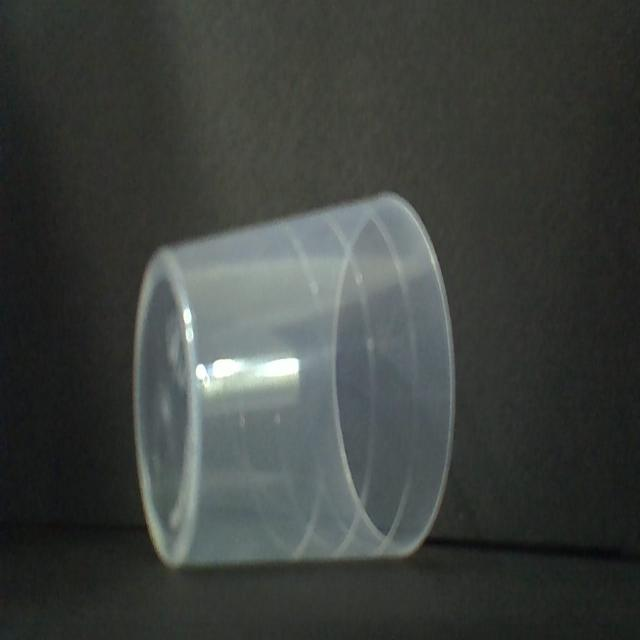cup: (130, 185, 457, 572)
